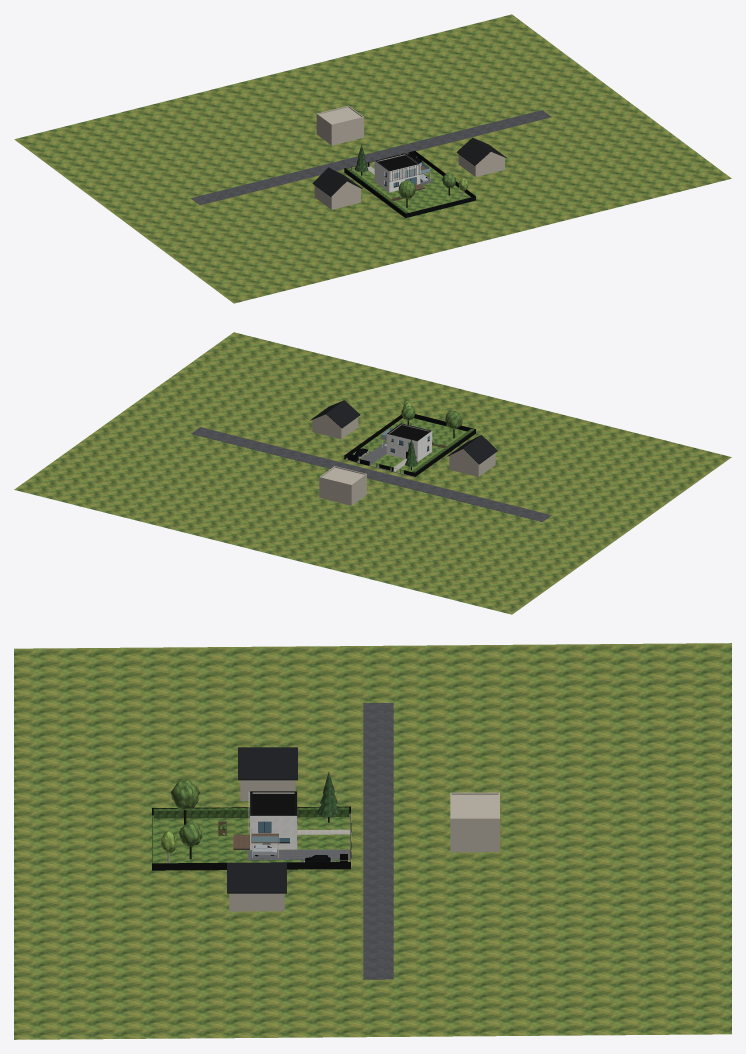
File: dom_testowy.obj
3 renders of one model, top to bottom at view 1: azimuth 30°, elevation 25°; view 2: azimuth 150°, elevation 25°; view 3: azimuth 270°, elevation 25°, orthographic. The views are drawn at different scales.
Parts seen in each view (by area): view 1: TEREN|TEREN_POZA, DROGA-1KDD|NAW_ASFALT, TEREN|TEREN_TRAWA, SASIAD-T-2_1|SASIEDNI_SCIANA, OGR4|SIATKA, SASIAD-T-1_2|SASIEDNI_SCIANA, SASIAD-T-1_3|SASIEDNI_SCIANA, SASIAD-T-1_3|SASIEDNI_DACH, SASIAD-T-1_2|SASIEDNI_DACH; view 2: TEREN|TEREN_POZA, DROGA-1KDD|NAW_ASFALT, TEREN|TEREN_TRAWA, SASIAD-T-2_1|SASIEDNI_SCIANA, OGR4|SIATKA, SASIAD-T-1_2|SASIEDNI_SCIANA, SASIAD-T-1_3|SASIEDNI_SCIANA, SASIAD-T-1_3|SASIEDNI_DACH, SASIAD-T-1_2|SASIEDNI_DACH; view 3: TEREN|TEREN_POZA, DROGA-1KDD|NAW_ASFALT, TEREN|TEREN_TRAWA, SASIAD-T-2_1|SASIEDNI_SCIANA, SASIAD-T-1_2|SASIEDNI_DACH, SASIAD-T-1_3|SASIEDNI_DACH, Z1|ZYWOPLOT, OGR4|SIATKA, SASIAD-T-1_3|SASIEDNI_SCIANA, D1|EPDM, U1|NAW_KOSTKA, SASIAD-T-1_2|SASIEDNI_SCIANA (+2 smaller).
Boxes of the visible parts, left/top/right/bottom form: TEREN|TEREN_POZA: left=14, top=14, right=731, bottom=303; DROGA-1KDD|NAW_ASFALT: left=191, top=110, right=551, bottom=205; TEREN|TEREN_TRAWA: left=353, top=156, right=475, bottom=217; SASIAD-T-2_1|SASIEDNI_SCIANA: left=316, top=105, right=363, bottom=145; OGR4|SIATKA: left=344, top=151, right=475, bottom=217; SASIAD-T-1_2|SASIEDNI_SCIANA: left=314, top=181, right=360, bottom=209; SASIAD-T-1_3|SASIEDNI_SCIANA: left=458, top=152, right=504, bottom=176; SASIAD-T-1_3|SASIEDNI_DACH: left=456, top=137, right=506, bottom=165; SASIAD-T-1_2|SASIEDNI_DACH: left=312, top=167, right=362, bottom=196; TEREN|TEREN_POZA: left=14, top=332, right=731, bottom=614; DROGA-1KDD|NAW_ASFALT: left=191, top=427, right=551, bottom=521; TEREN|TEREN_TRAWA: left=346, top=418, right=466, bottom=473; SASIAD-T-2_1|SASIEDNI_SCIANA: left=319, top=466, right=366, bottom=505; OGR4|SIATKA: left=345, top=414, right=475, bottom=476; SASIAD-T-1_2|SASIEDNI_SCIANA: left=449, top=449, right=495, bottom=476; SASIAD-T-1_3|SASIEDNI_SCIANA: left=312, top=414, right=358, bottom=439; SASIAD-T-1_3|SASIEDNI_DACH: left=310, top=400, right=360, bottom=428; SASIAD-T-1_2|SASIEDNI_DACH: left=447, top=435, right=497, bottom=464; TEREN|TEREN_POZA: left=14, top=643, right=731, bottom=1039; DROGA-1KDD|NAW_ASFALT: left=363, top=703, right=393, bottom=979; TEREN|TEREN_TRAWA: left=152, top=814, right=350, bottom=870; SASIAD-T-2_1|SASIEDNI_SCIANA: left=450, top=792, right=499, bottom=852; SASIAD-T-1_2|SASIEDNI_DACH: left=238, top=747, right=297, bottom=780; SASIAD-T-1_3|SASIEDNI_DACH: left=227, top=862, right=286, bottom=893; Z1|ZYWOPLOT: left=153, top=807, right=349, bottom=818; OGR4|SIATKA: left=152, top=806, right=350, bottom=870; SASIAD-T-1_3|SASIEDNI_SCIANA: left=229, top=893, right=284, bottom=911; D1|EPDM: left=252, top=794, right=294, bottom=814; U1|NAW_KOSTKA: left=247, top=849, right=350, bottom=860; SASIAD-T-1_2|SASIEDNI_SCIANA: left=240, top=780, right=295, bottom=800.
Bounding box in the file's own units: 170 × 11.18 × 130.
51 materials, 21 textured.
